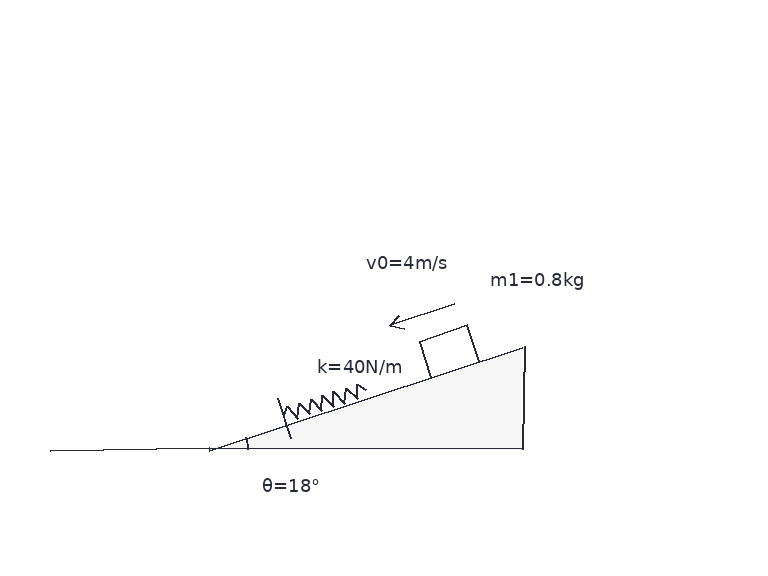block: (417, 323, 481, 379)
ramp: (206, 345, 524, 451)
spring: (282, 382, 367, 420)
